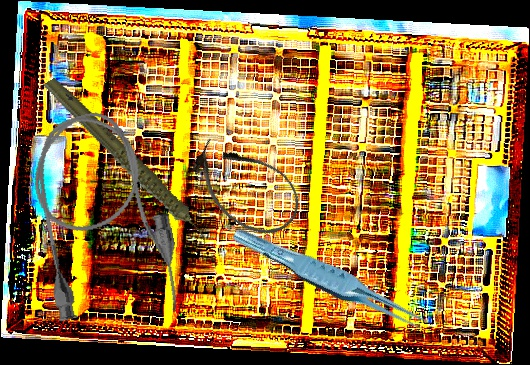Cannula: (18, 101, 189, 336), (178, 126, 313, 249)
Handpiece: (41, 52, 212, 275)
Tissue Forceps: (230, 213, 436, 350)
